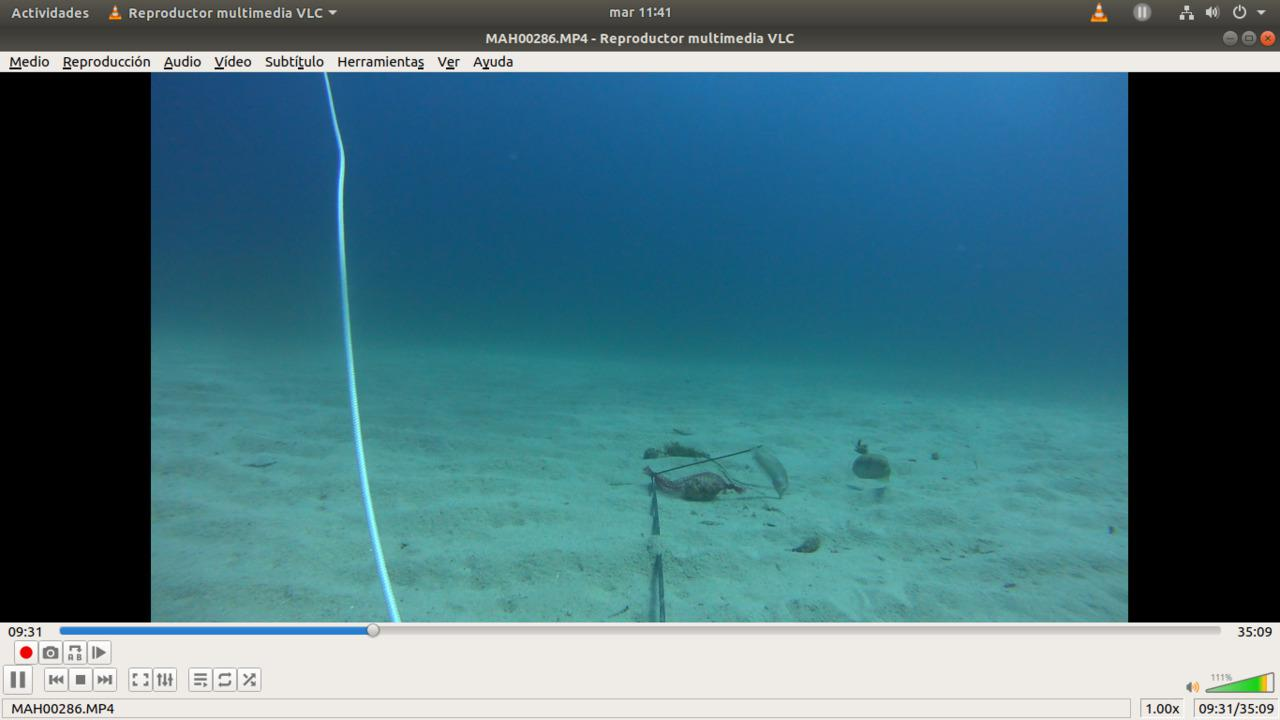raor: (751, 443, 795, 501), (849, 449, 899, 482)
